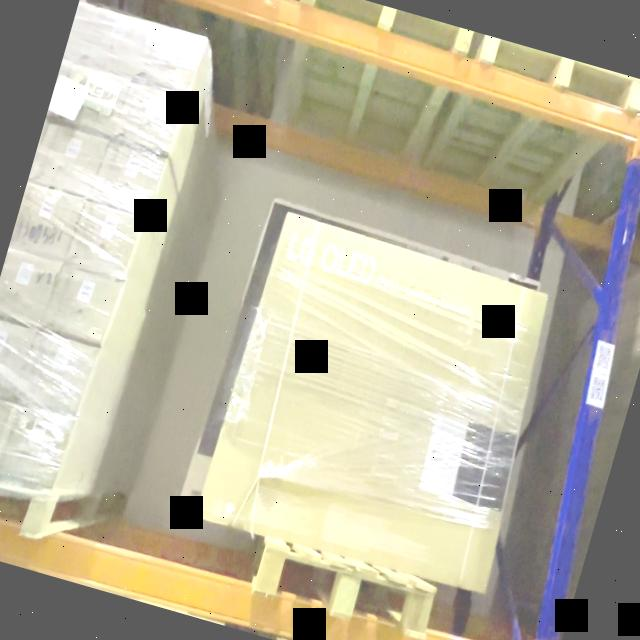box: (202, 220, 546, 588), (18, 328, 96, 414), (46, 266, 120, 343), (10, 182, 84, 258), (0, 405, 70, 485), (68, 200, 140, 276), (94, 142, 164, 216), (57, 63, 127, 136), (34, 124, 104, 197), (133, 23, 203, 94), (79, 6, 147, 77), (115, 83, 183, 153), (0, 247, 60, 325), (0, 316, 32, 398)
